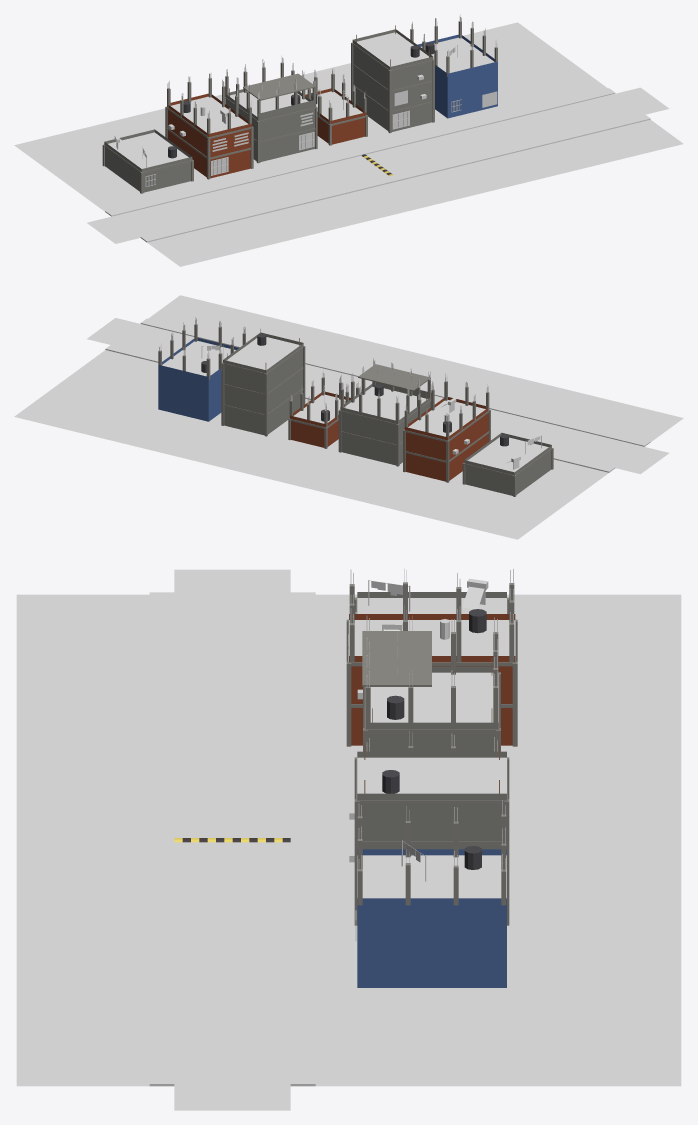
Rendered from obra_prueba.glb.
The picture shows the model from 3 angles, top to bottom: view 1: azimuth 30°, elevation 25°; view 2: azimuth 150°, elevation 25°; view 3: azimuth 270°, elevation 25°; orthographic projection. The views are drawn at different scales.
Parts seen in each view (by area): view 1: Piso, Calle_0, Obra_5, Obra_2, Obra_3, Obra_6, Obra_1, Obra_4; view 2: Piso, Calle_0, Obra_5, Obra_3, Obra_2, Obra_6, Obra_1, Obra_4; view 3: Piso, Calle_0, Obra_6, Obra_5, Obra_3, Obra_2, Obra_1.
Boxes of the visible parts, box(x1,y1,x2,y2) form: Piso: box(14, 22, 683, 266); Calle_0: box(87, 87, 669, 243); Obra_5: box(351, 25, 434, 133); Obra_2: box(165, 72, 253, 179); Obra_3: box(225, 55, 317, 163); Obra_6: box(410, 14, 497, 118); Obra_1: box(102, 129, 193, 193); Obra_4: box(299, 68, 367, 145); Piso: box(14, 295, 683, 539); Calle_0: box(87, 318, 669, 474); Obra_5: box(221, 329, 305, 436); Obra_3: box(338, 358, 431, 466); Obra_2: box(403, 373, 490, 482); Obra_6: box(158, 317, 245, 421); Obra_1: box(462, 432, 553, 496); Obra_4: box(288, 370, 359, 448); Piso: box(16, 594, 681, 1086); Calle_0: box(149, 569, 315, 1110); Obra_6: box(355, 800, 506, 987); Obra_5: box(349, 742, 509, 925); Obra_3: box(362, 616, 500, 751); Obra_2: box(346, 568, 517, 746); Obra_1: box(354, 578, 509, 613).
Size of what is drawn, in the model's own units: 77 by 9.45 by 40.
